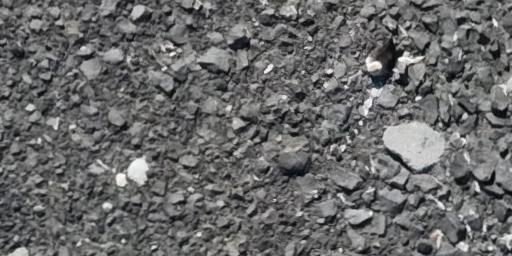skua: (355, 29, 409, 88)
